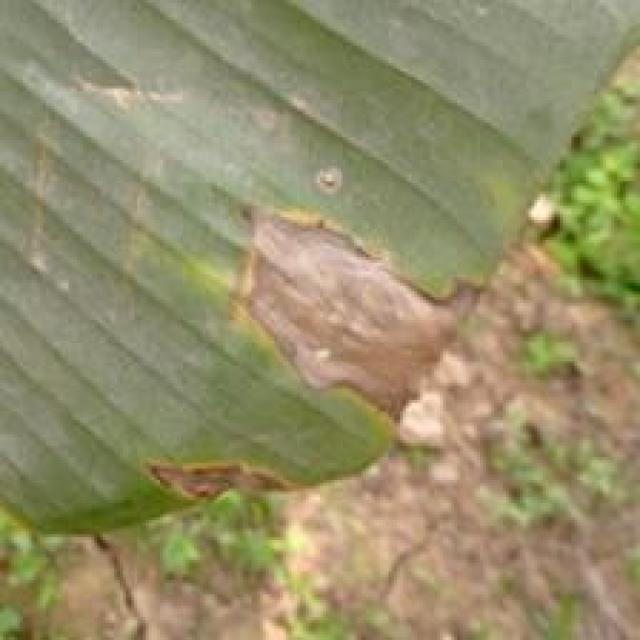Bacterial_spot: (218, 168, 489, 442), (136, 443, 313, 513), (18, 111, 83, 275), (100, 142, 166, 291), (57, 60, 214, 113), (293, 149, 351, 214)
